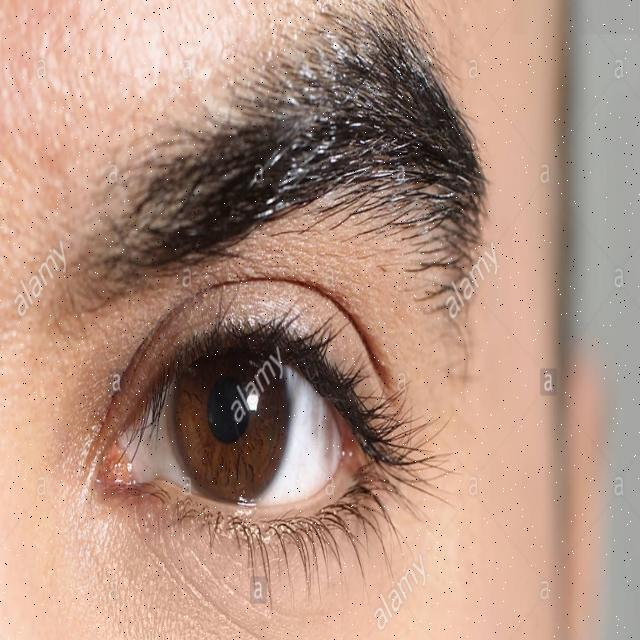Normal: (73, 250, 456, 572)
